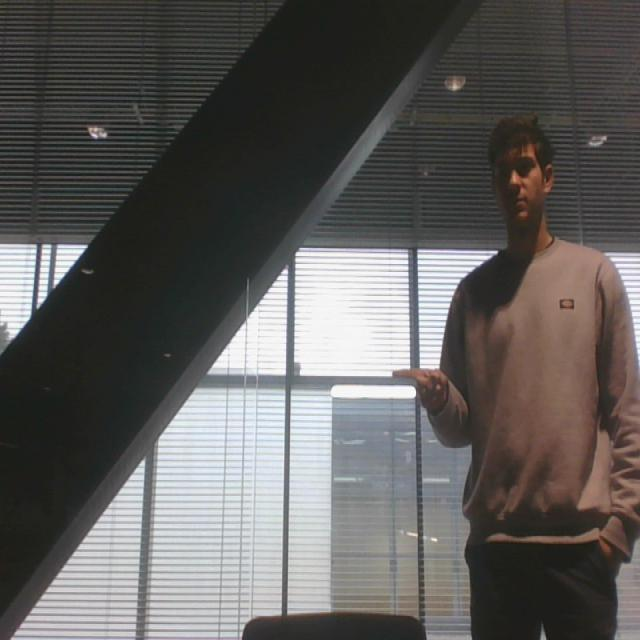left: (388, 354, 456, 420)
